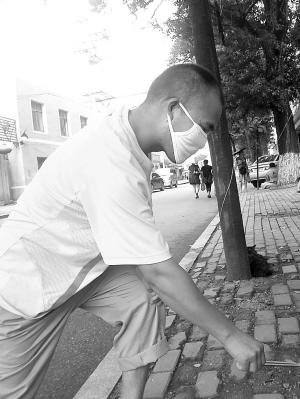WRONG: (162, 101, 216, 165)
